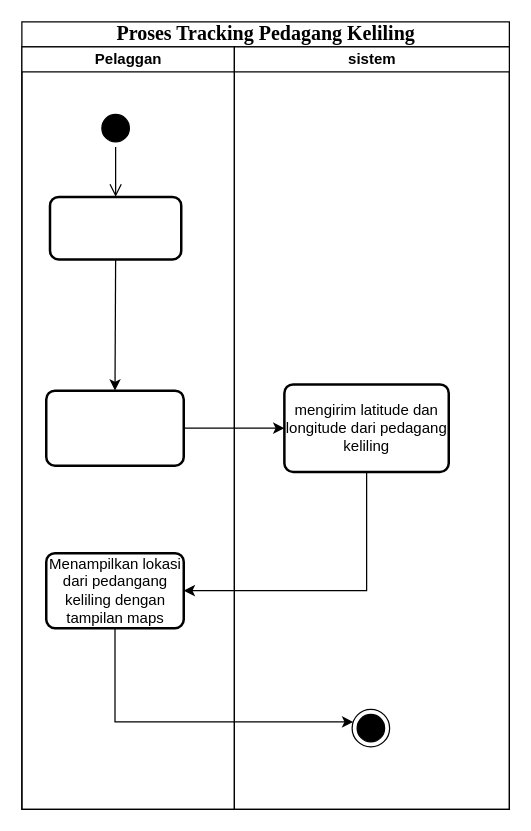
Image size: 531x831. Some labels were removed from this diagram. The centre of each missing label's shape, as x and y in pixels:
Melihat list pedagang keliling: the point at 115,227
Menekan tombol detail pedagang keliling: the point at 114,427
